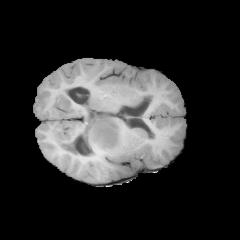glioma: (90, 118, 124, 151)
